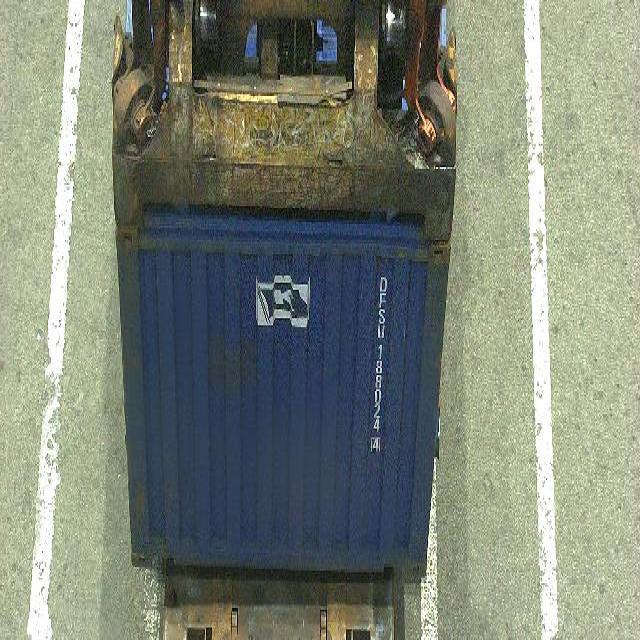container_number: (368, 262, 388, 460)
